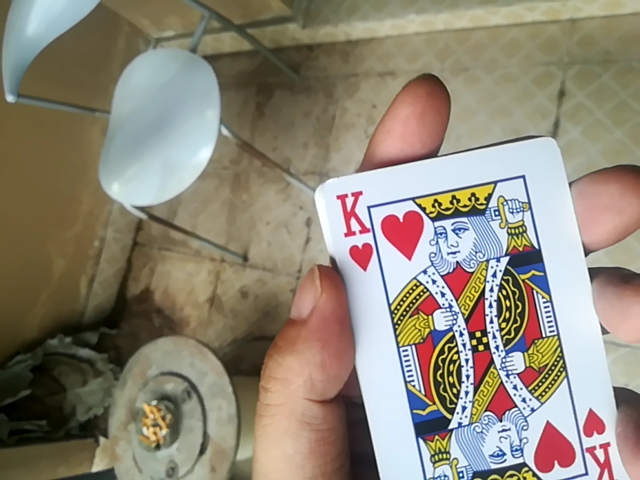hx k: (331, 137, 637, 478)
